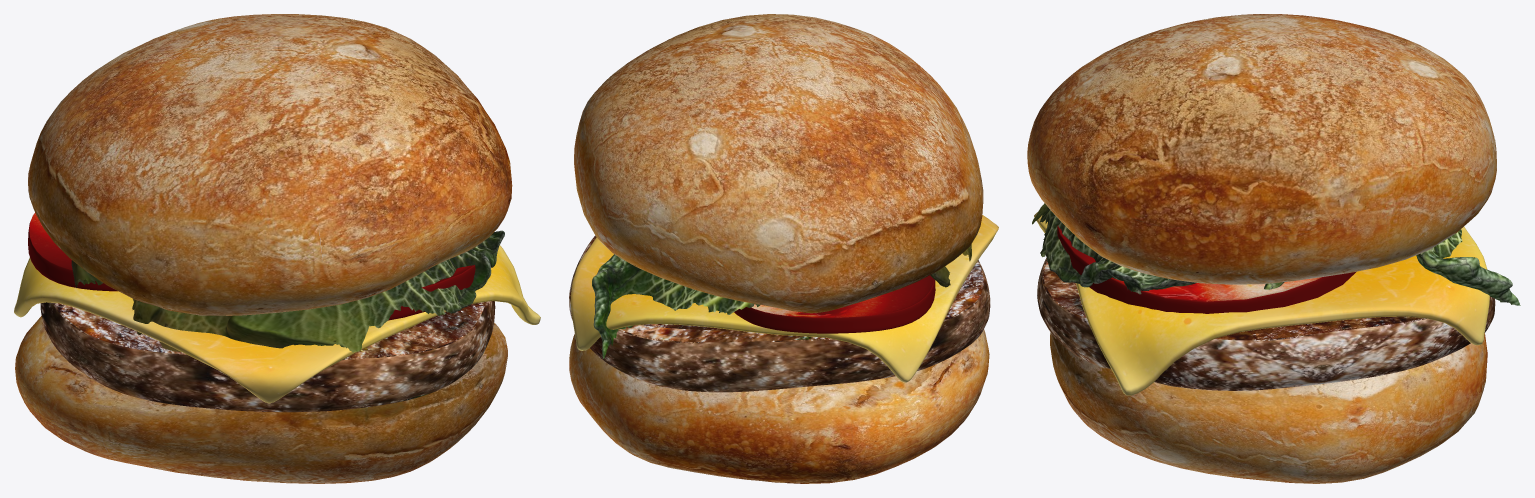
File: burger.glb
The picture shows the model from 3 angles, left to right: view 1: azimuth 30°, elevation 25°; view 2: azimuth 150°, elevation 25°; view 3: azimuth 270°, elevation 25°; orthographic projection. The views are drawn at different scales.
Visible parts, largest first — view 1: Bread2A_Bread2A_0, Bread2B_Bread2A_0, Patty2, Cheese2, Cabbage2_Cabbage2_0, Tomato003, Tomato2A; view 2: Bread2A_Bread2A_0, Bread2B_Bread2A_0, Patty2, Cheese2, Tomato003, Cabbage2_Cabbage2_0; view 3: Bread2A_Bread2A_0, Bread2B_Bread2A_0, Patty2, Cheese2, Cabbage2_Cabbage2_0, Tomato2A.
Part boxes in pixels (<box>): Bread2A_Bread2A_0: <box>28,14,512,315</box>; Bread2B_Bread2A_0: <box>15,316,507,483</box>; Patty2: <box>40,301,495,412</box>; Cheese2: <box>14,245,540,403</box>; Cabbage2_Cabbage2_0: <box>71,230,504,352</box>; Tomato003: <box>28,212,117,291</box>; Tomato2A: <box>388,265,475,320</box>; Bread2A_Bread2A_0: <box>574,14,983,313</box>; Bread2B_Bread2A_0: <box>569,329,989,483</box>; Patty2: <box>569,235,990,392</box>; Cheese2: <box>570,215,998,382</box>; Tomato003: <box>734,275,935,333</box>; Cabbage2_Cabbage2_0: <box>592,244,971,358</box>; Bread2A_Bread2A_0: <box>1027,14,1496,284</box>; Bread2B_Bread2A_0: <box>1050,332,1487,483</box>; Patty2: <box>1037,258,1495,390</box>; Cheese2: <box>1034,212,1489,395</box>; Cabbage2_Cabbage2_0: <box>1032,203,1520,305</box>; Tomato2A: <box>1057,225,1356,313</box>.
Size of the model in its own units: 0.0915 by 0.0828 by 0.0967.
7 materials, 6 textured.
